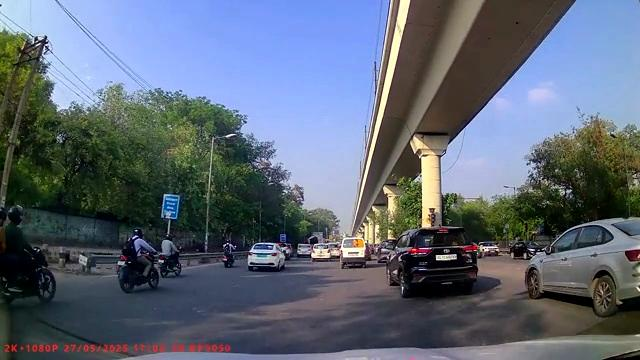motorcycle_with_helmet: (115, 227, 160, 294), (158, 232, 182, 278), (221, 238, 235, 268)
